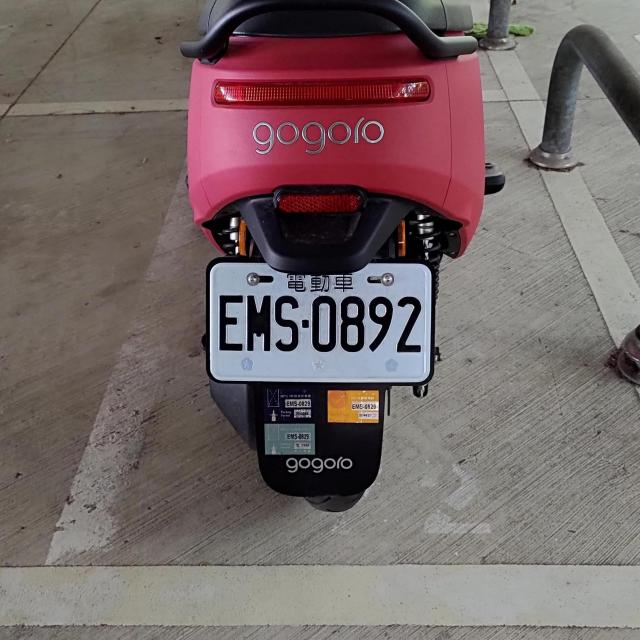W: (208, 262, 431, 382)
